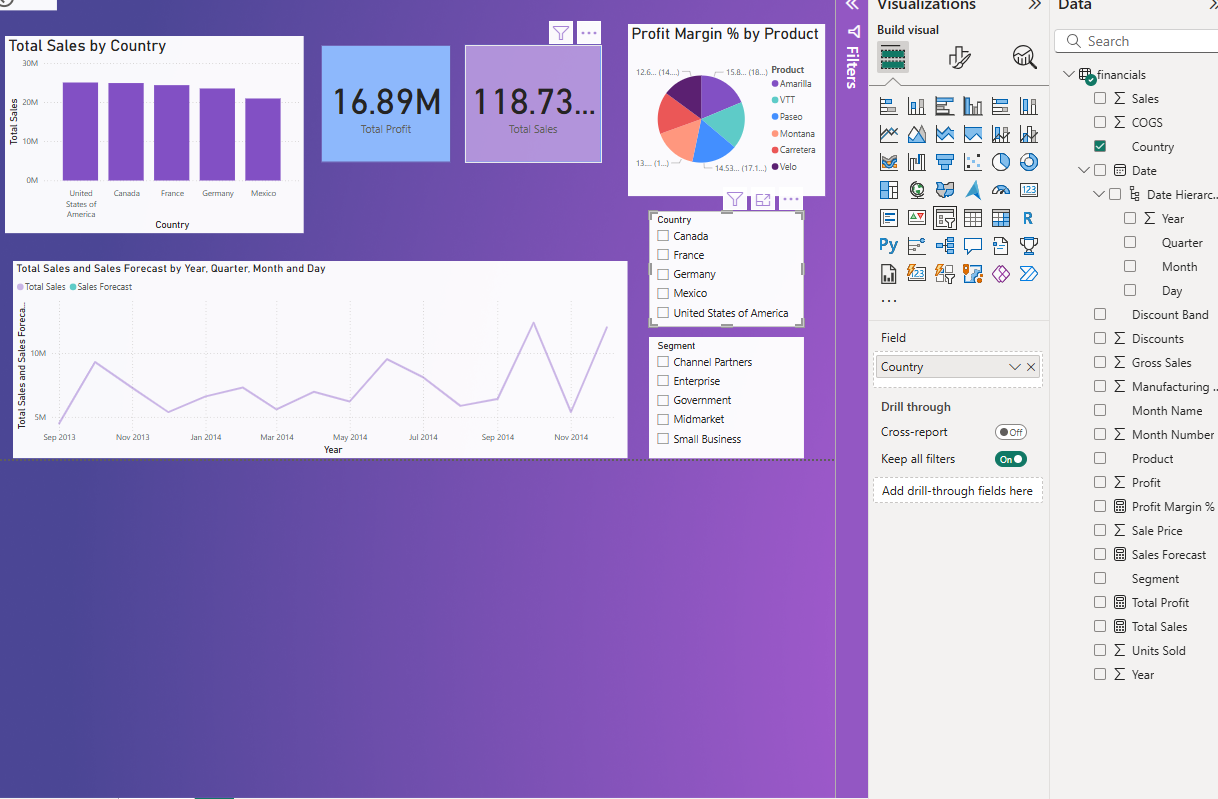

Layout of this report page (visuals, bound fields, positions):
{"tool":"powerbi","page":{"name":"Page 1","canvas":[1280,720],"ordinal":0},"visuals":[{"type":"card","fields":{"Values":["financials.Total Sales"]},"box":[719.5,92.8,206.4,178],"z":0},{"type":"card","fields":{"Values":["financials.Total Profit"]},"box":[499.9,92.8,196.9,178],"z":1},{"type":"lineChart","fields":{"Y":["financials.Total Sales","financials.Sales Forecast"],"Category":["financials.Date.Variation.Date Hierarchy.Year","financials.Date.Variation.Date Hierarchy.Quarter","financials.Date.Variation.Date Hierarchy.Month","financials.Date.Variation.Date Hierarchy.Day"]},"box":[34.1,420.4,931.6,299.2],"z":2},{"type":"clusteredColumnChart","fields":{"Category":["financials.Country"],"Y":["financials.Total Sales"]},"box":[20.8,79.5,452.5,299.2],"z":4},{"type":"pieChart","fields":{"Category":["financials.Product"],"Y":["financials.Profit Margin %"]},"box":[965.7,60.6,299.2,261.3],"z":5},{"type":"slicer","fields":{"Values":["financials.Country"]},"box":[997.9,344.6,234.8,176.1],"z":6},{"type":"actionButton","box":[0,0,100,40],"z":7},{"type":"slicer","fields":{"Values":["financials.Segment"]},"box":[997.9,535.9,234.8,183.7],"z":8}]}

Visuals, with their boxes on the page's 1280x720 design canvas (x1, y1, x2, y2). These are canvas units, not pixel positions in the 1218x799 screenshot, which may show the page scaled, cropped or inside an application window:
card - financials.Total Sales: 720,93,926,271
card - financials.Total Profit: 500,93,697,271
lineChart - financials.Total Sales x financials.Sales Forecast: 34,420,966,720
clusteredColumnChart - financials.Country x financials.Total Sales: 21,80,473,379
pieChart - financials.Product x financials.Profit Margin %: 966,61,1265,322
slicer - financials.Country: 998,345,1233,521
actionButton: 0,0,100,40
slicer - financials.Segment: 998,536,1233,720
